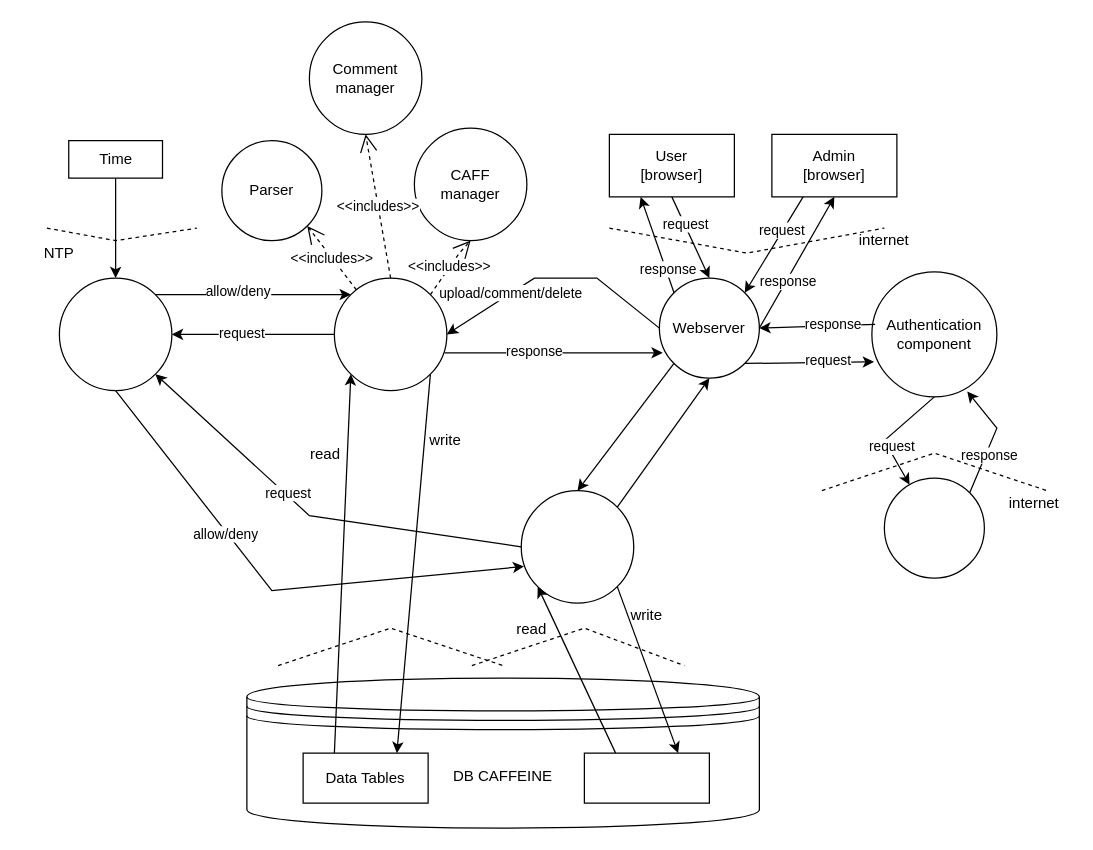
This 1093x850 diagram has some shape labels left out. The box of each missing label's shape, as (x1, y1, x2, y2) in pixels:
Access control: (58, 277, 172, 391)
Data-manager: (333, 277, 447, 391)
Google authenticator app: (883, 477, 984, 578)
User manager: (520, 489, 634, 603)
User Tables: (583, 752, 709, 803)
